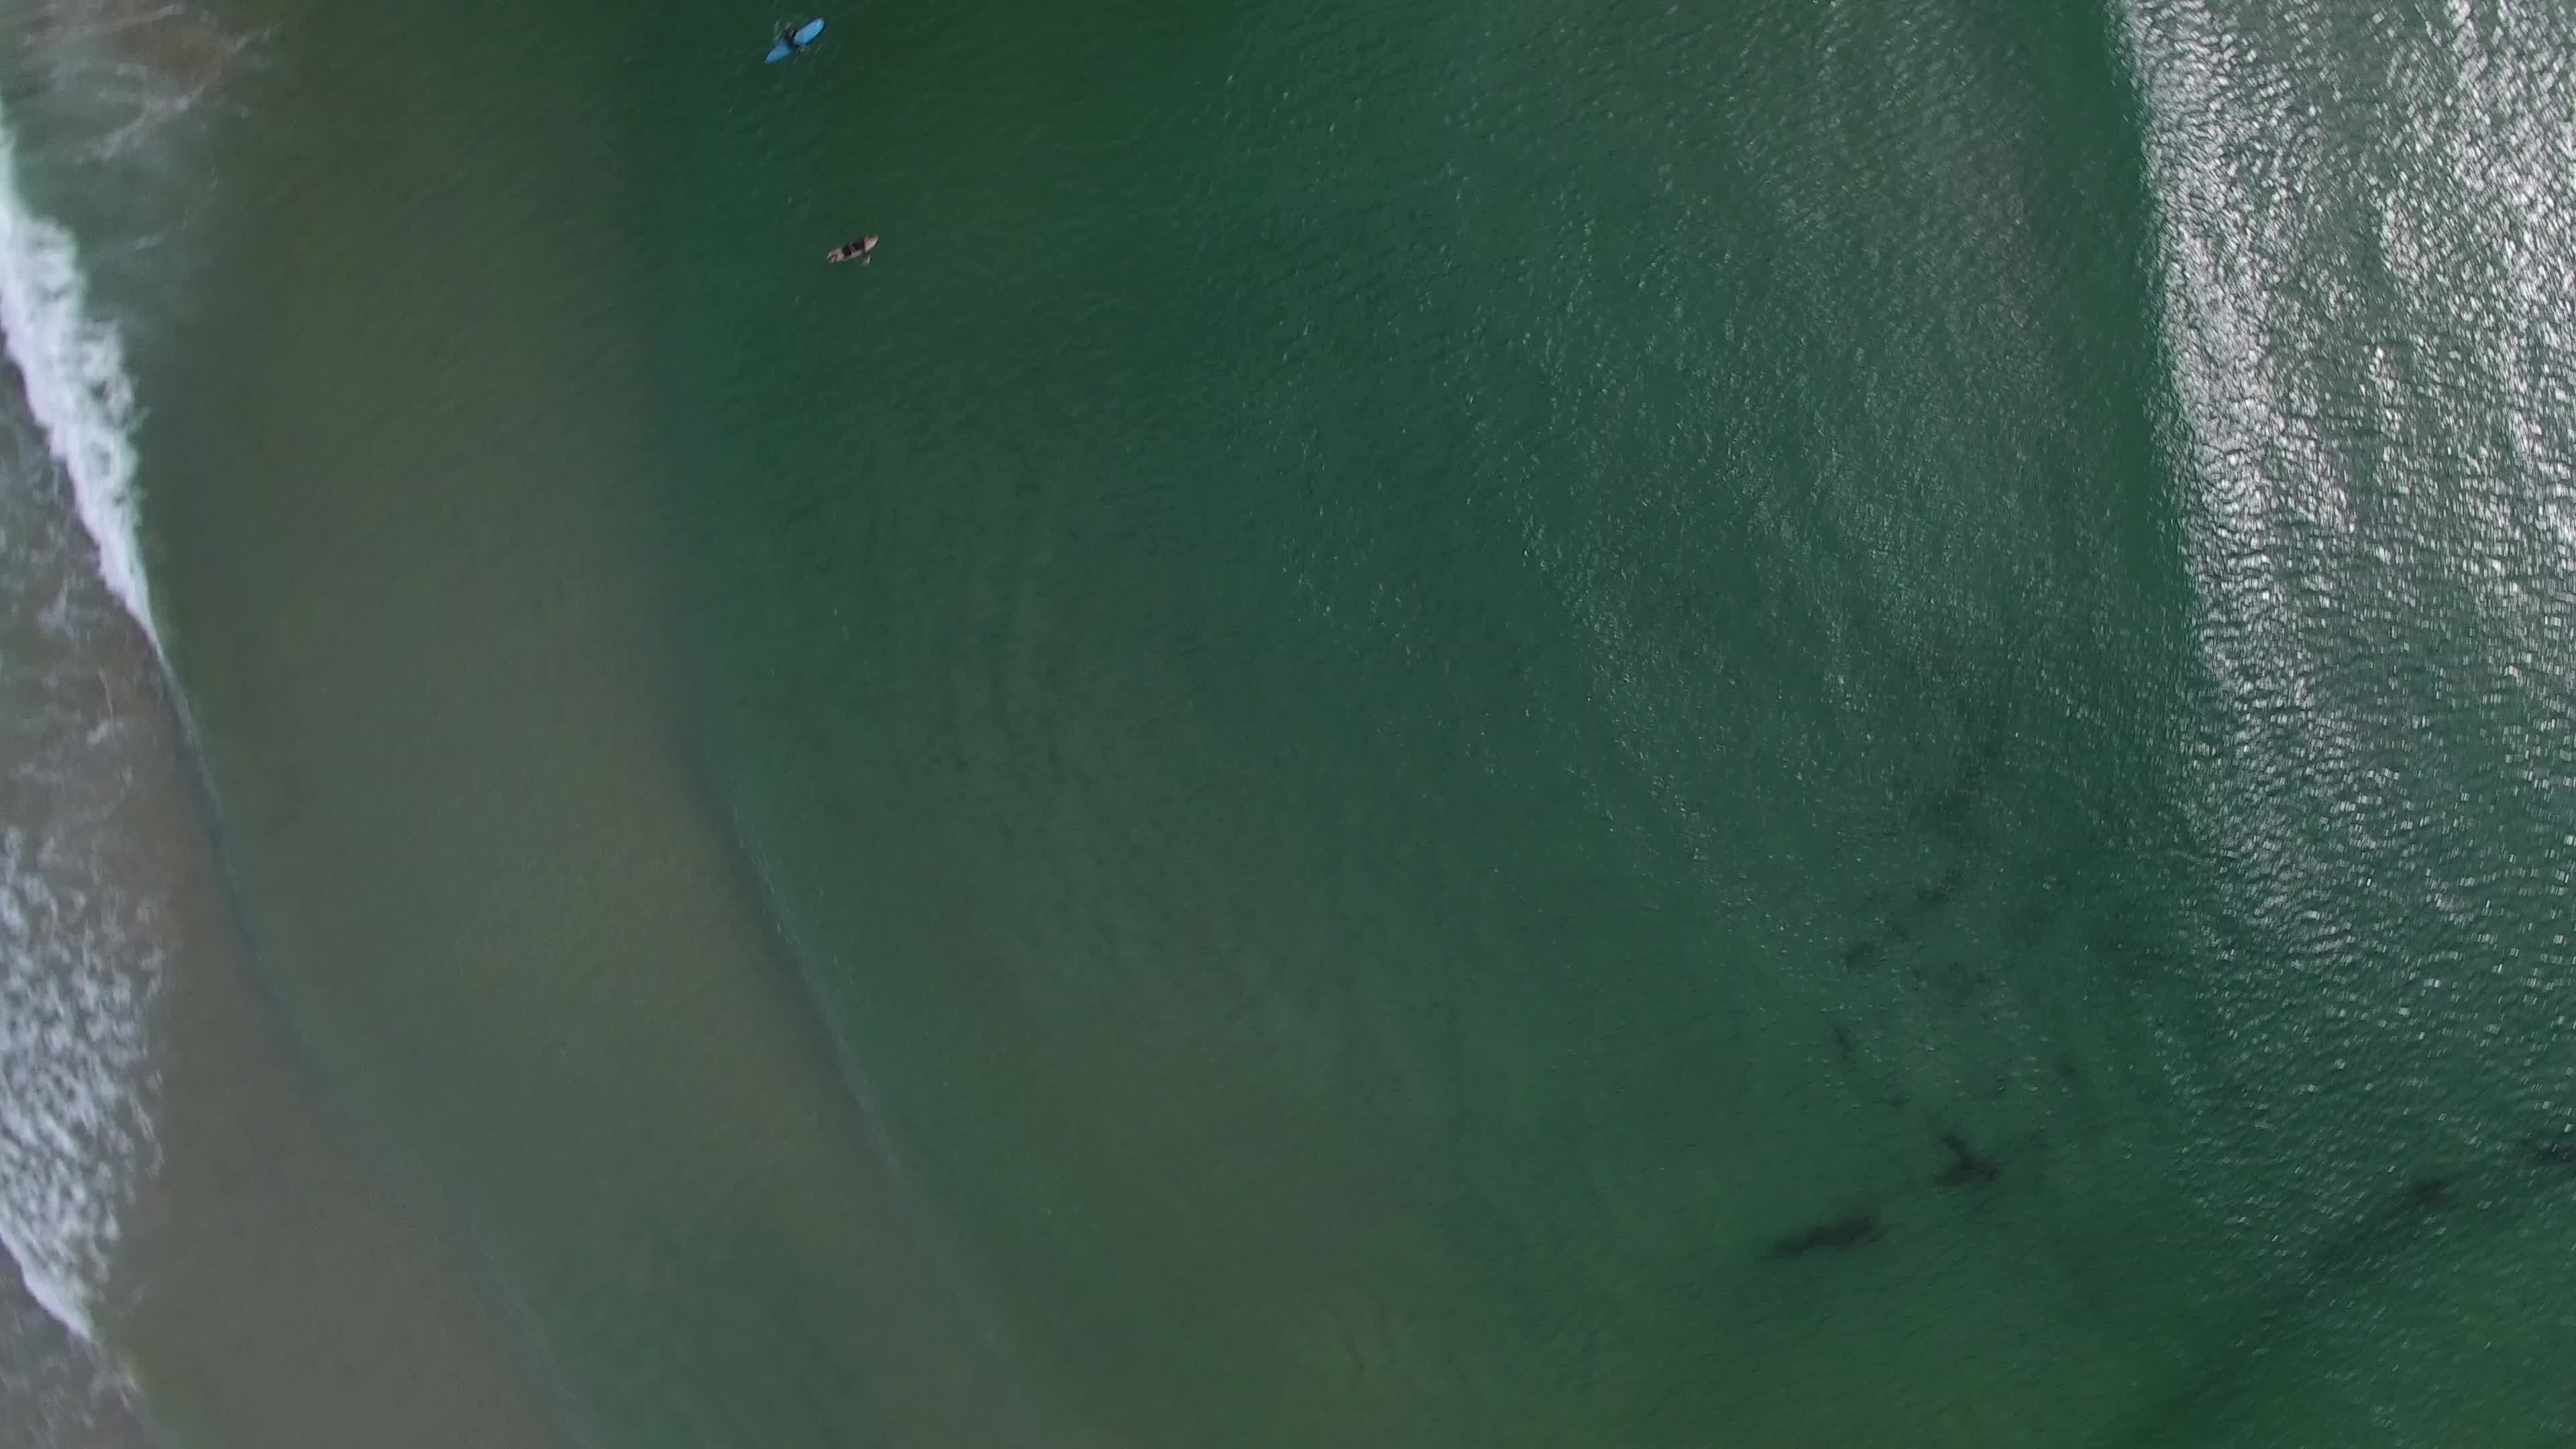surfer: (821, 225, 886, 274), (763, 21, 830, 67)
